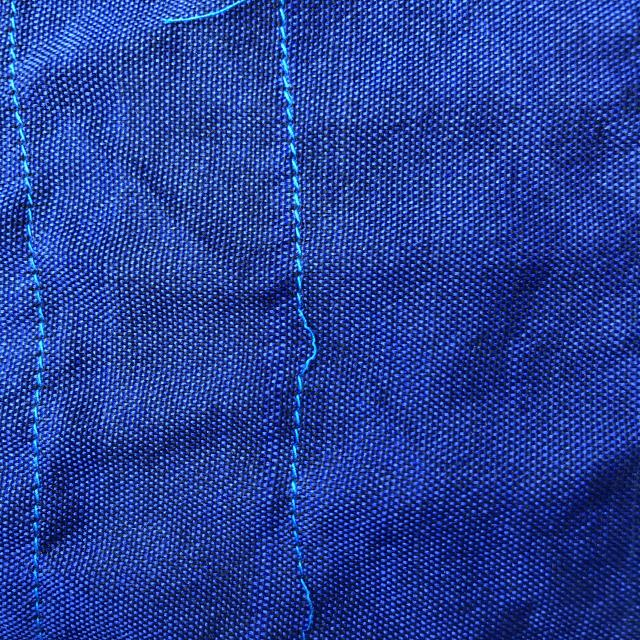skip: (249, 546, 342, 640), (278, 288, 334, 388)
